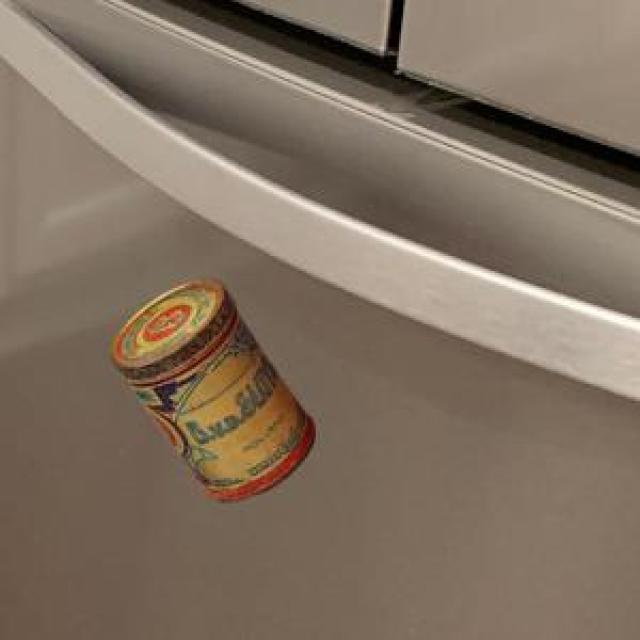logam: (108, 276, 310, 498)
